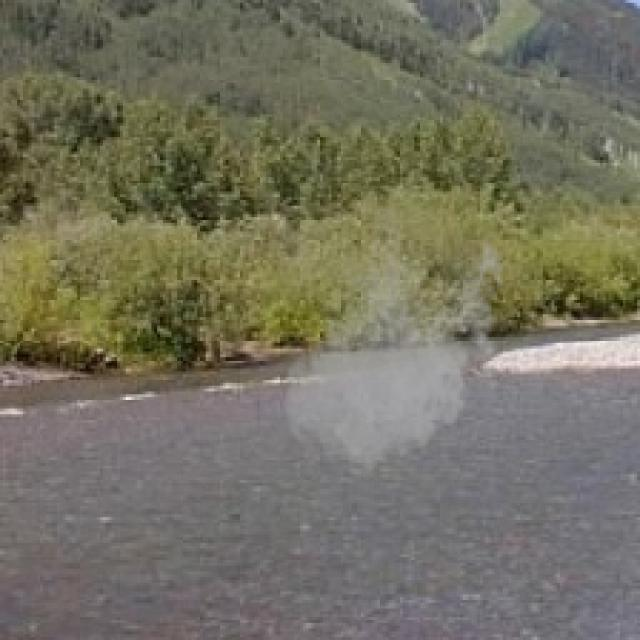smoke: (277, 208, 512, 486)
